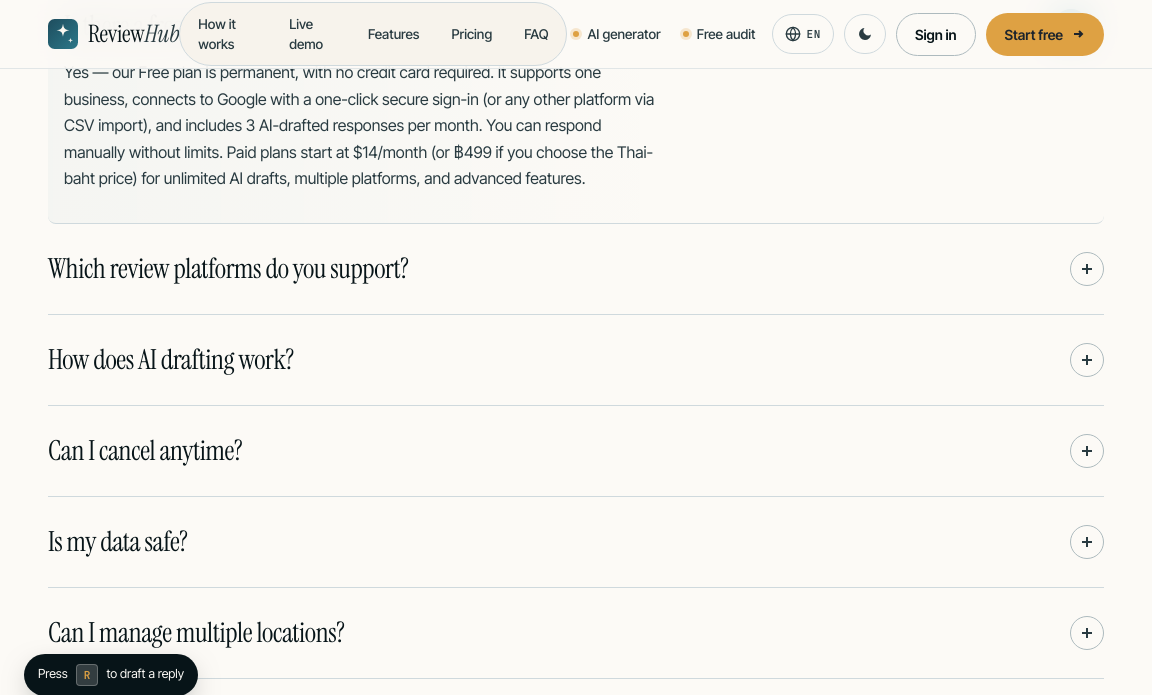
Test: Landing FAQ accordion › clicking a closed question opens it and closes the previously-open one
(page scrolled)
Click the button "How does AI drafting work?".
click(171, 360)  # box [48,343,1104,377]
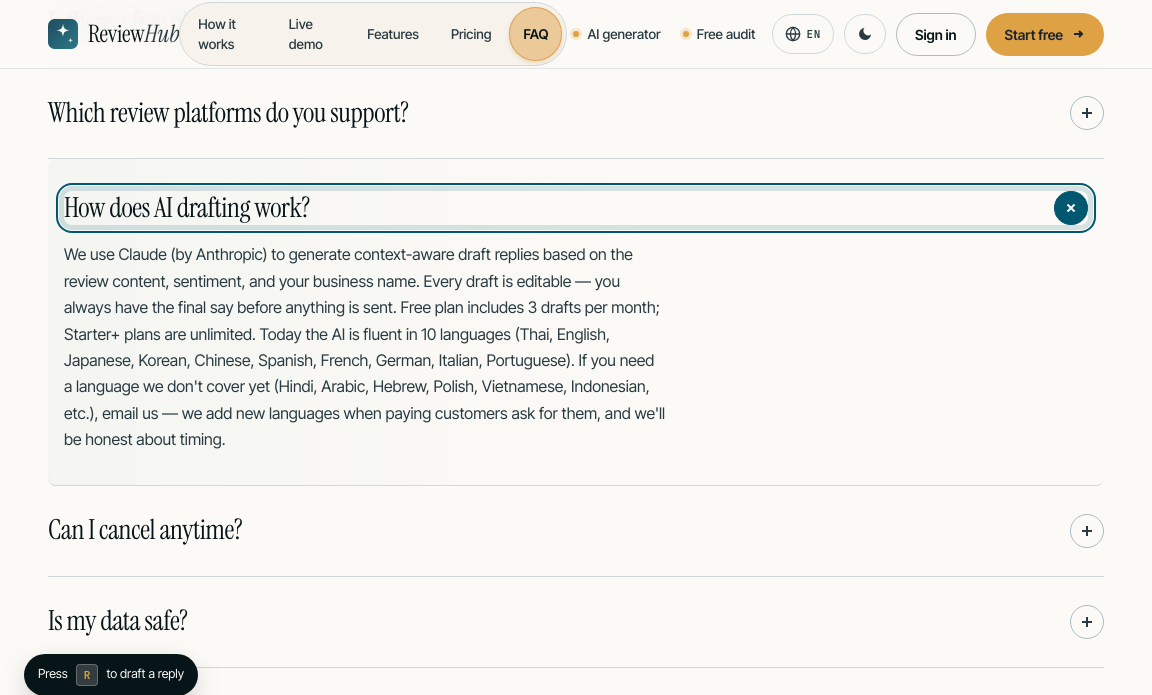
expect the button "Is there a free plan?" is collapsed: met, box [48,6,1104,40]
expect the button "How does AI drafting work?" is expanded: met, box [64,192,1088,226]
expect the text "Claude (by Anthropic)" is shown: met, box [64,244,665,449]
